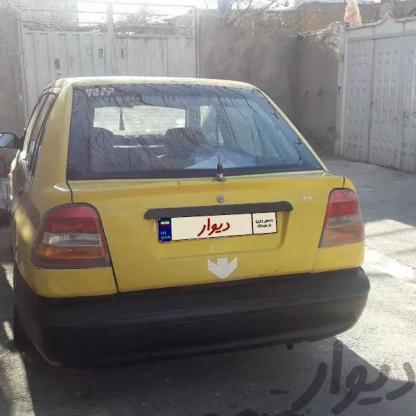Car: (0, 74, 374, 366)
